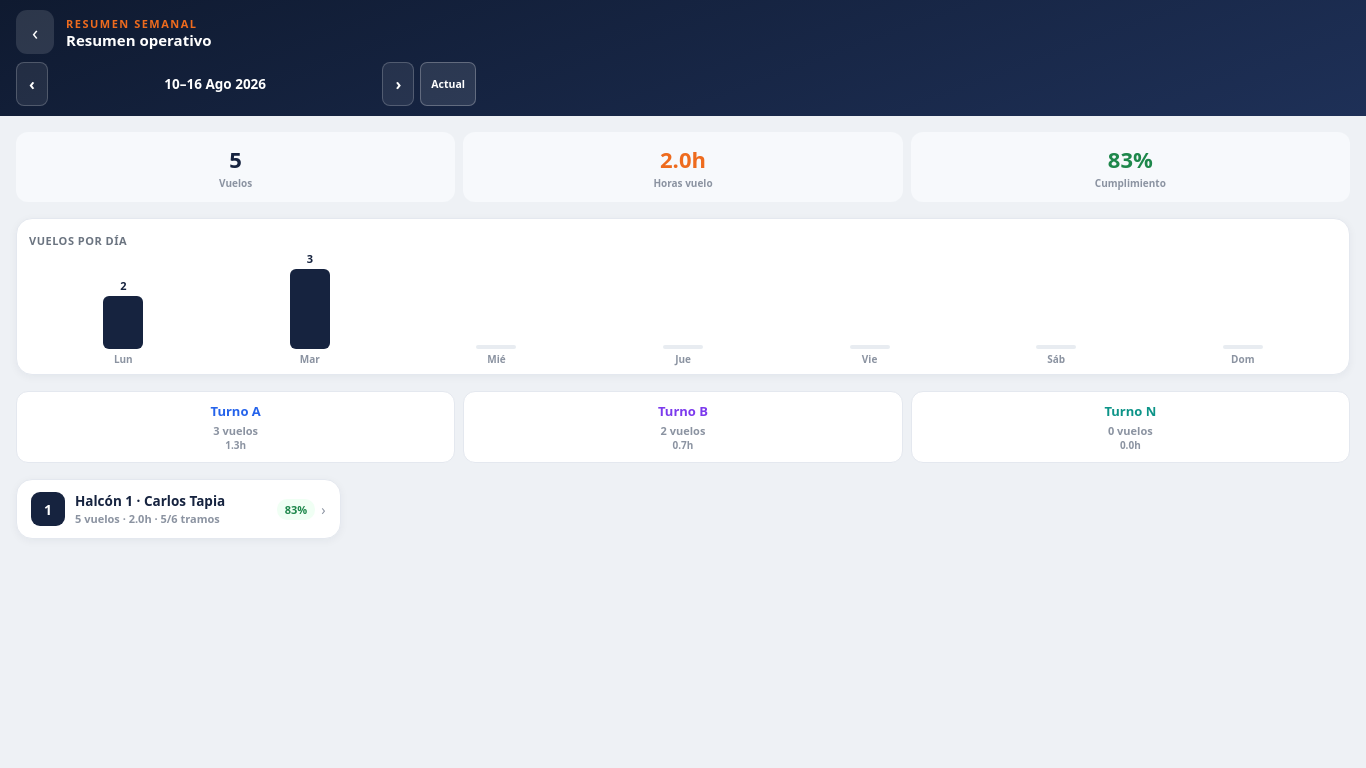
Test: ResumenSemanal — vista lista compacta y detalle por funcionario › tocar un funcionario muestra su vista de detalle con chart y días
Step 1. Click the button with test id "toggle-1" → (178, 509), box left=16, top=479, right=340, bottom=539
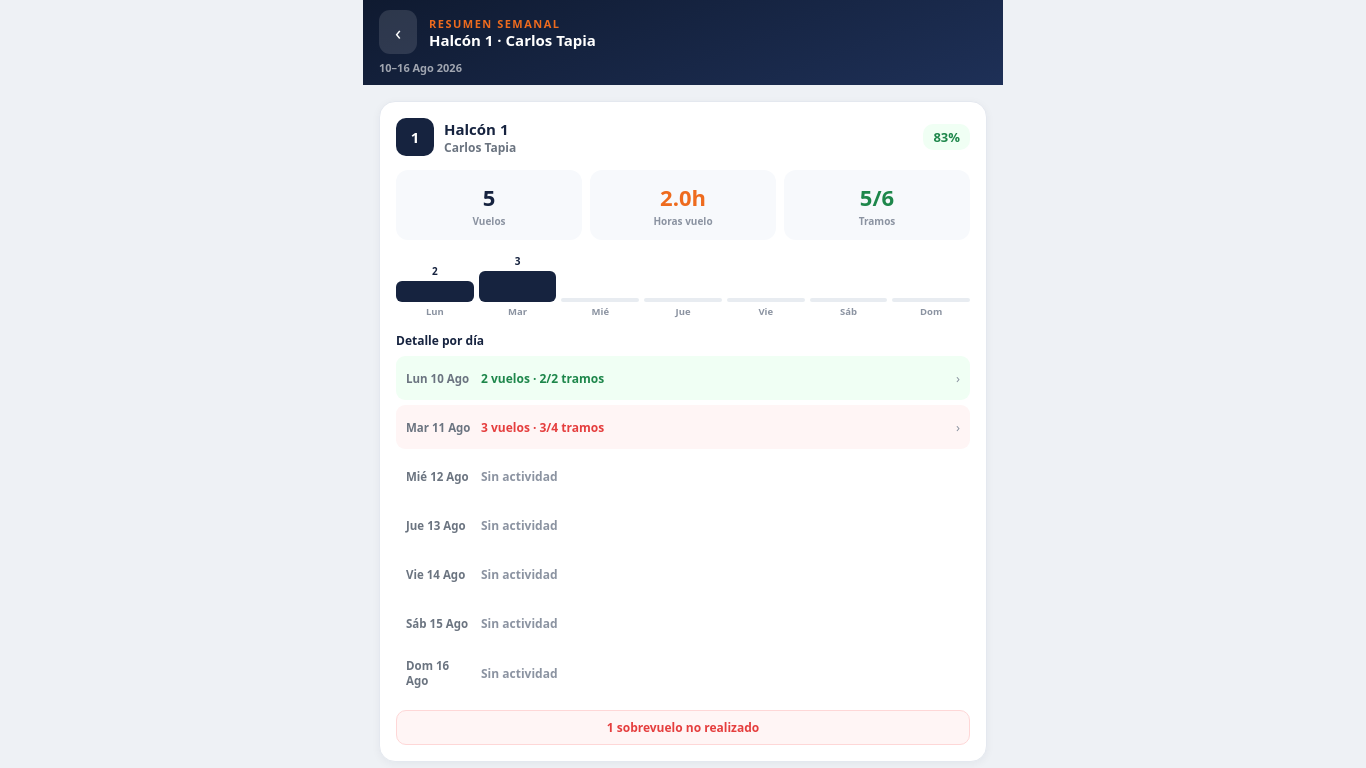
Expected: the element with test id "mini-chart-1" is shown, left=396, top=254, right=970, bottom=318
Expected: the button with test id "dia-1-2026-08-11" is shown, left=396, top=405, right=970, bottom=449
